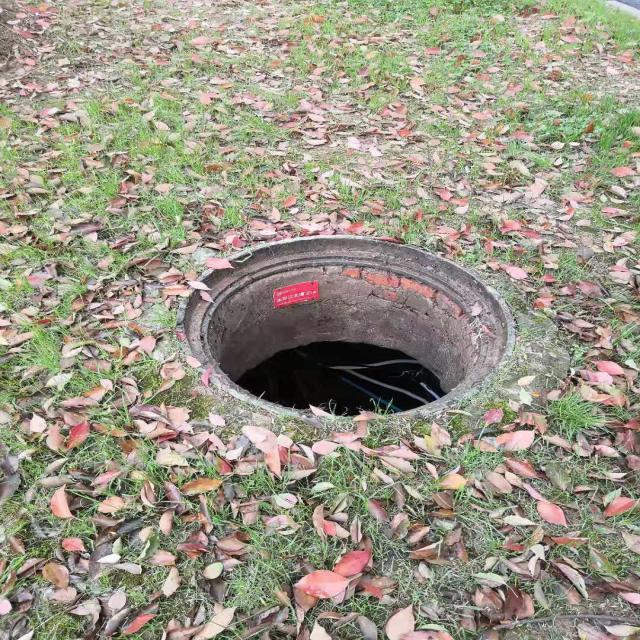Faulty: (173, 234, 515, 424)
